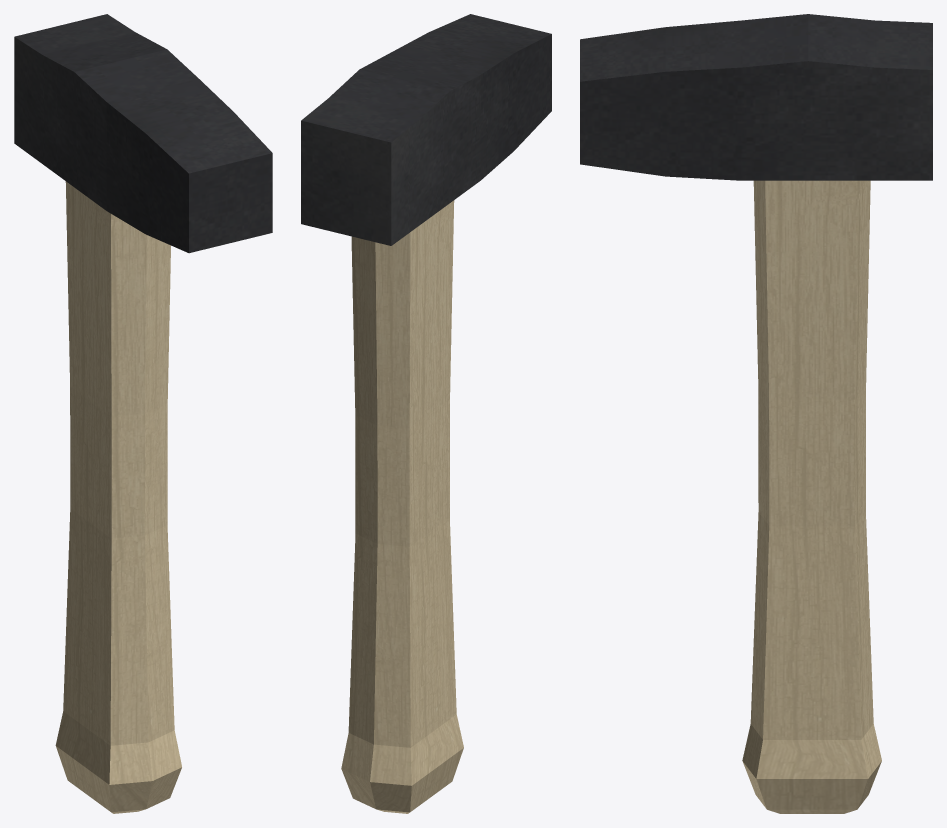
The model's file is Martillo.fbx.
The picture shows the model from 3 angles, left to right: view 1: azimuth 30°, elevation 25°; view 2: azimuth 150°, elevation 25°; view 3: azimuth 270°, elevation 25°; orthographic projection. The views are drawn at different scales.
Parts seen in each view (by area): view 1: Cube, Cube.001; view 2: Cube, Cube.001; view 3: Cube, Cube.001.
Part boxes in pixels (bbox=[...]): Cube: bbox=[55, 181, 181, 813]; Cube.001: bbox=[14, 14, 272, 253]; Cube: bbox=[341, 200, 463, 813]; Cube.001: bbox=[301, 14, 551, 245]; Cube: bbox=[742, 180, 881, 813]; Cube.001: bbox=[580, 14, 932, 180].
Size of the model in its own units: 9.12 by 69.17 by 28.88.
